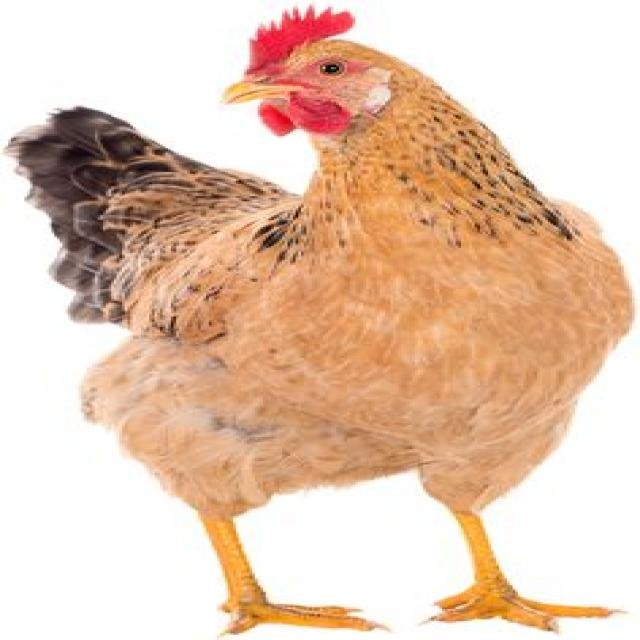Herbivorous: (8, 9, 632, 633)
